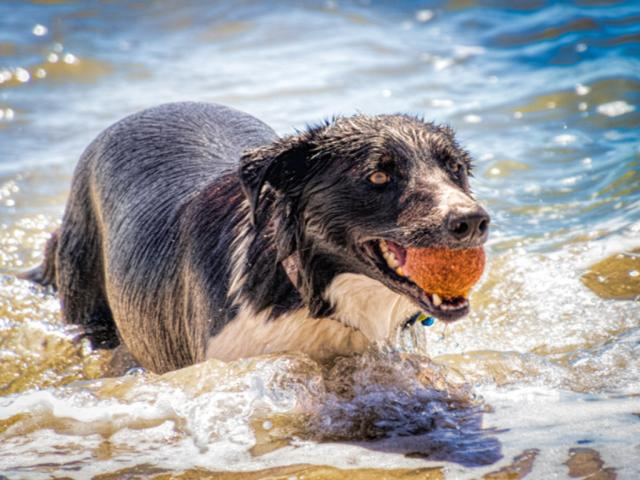Dog: (12, 100, 500, 375)
